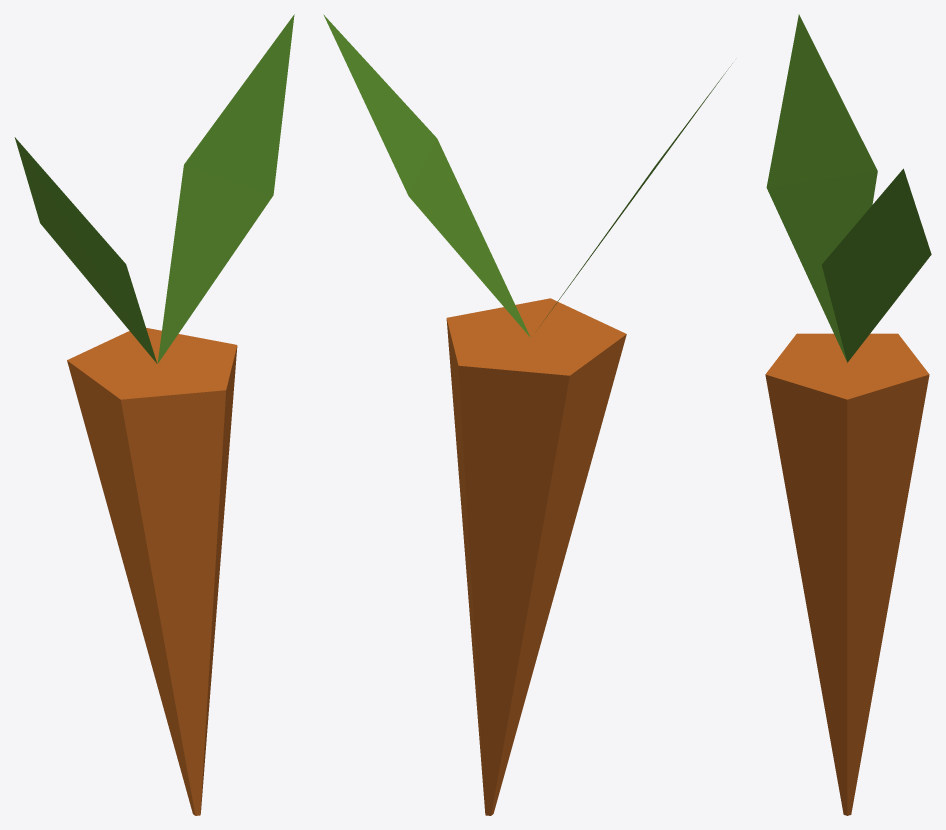
Rendered from harvest-carrot_LOD1.glb.
3 renders of one model, left to right at view 1: azimuth 30°, elevation 25°; view 2: azimuth 150°, elevation 25°; view 3: azimuth 270°, elevation 25°, orthographic. The views are drawn at different scales.
Parts seen in each view (by area): view 1: MARQUEUR_LOD1; view 2: MARQUEUR_LOD1; view 3: MARQUEUR_LOD1.
Boxes of the visible parts, <box> form: MARQUEUR_LOD1: <box>14,14,294,815</box>; MARQUEUR_LOD1: <box>323,14,732,815</box>; MARQUEUR_LOD1: <box>765,14,931,815</box>.
Bounding box in the file's own units: 0.6343 × 1.35 × 0.2889.
